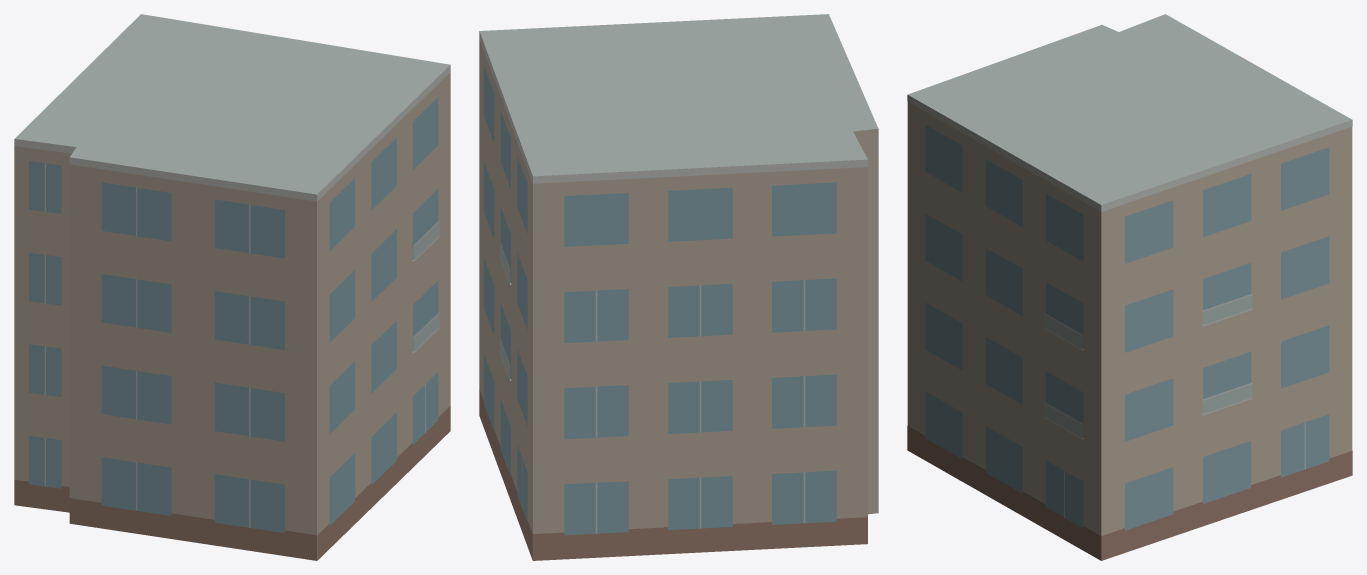
File: survey-upis-32995242.glb
The picture shows the model from 3 angles, left to right: view 1: azimuth 30°, elevation 25°; view 2: azimuth 150°, elevation 25°; view 3: azimuth 270°, elevation 25°; orthographic projection. The views are drawn at different scales.
Visible parts, largest first — view 1: survey-upis-32995242.tmp; view 2: survey-upis-32995242.tmp; view 3: survey-upis-32995242.tmp.
Part boxes in pixels (x1,y1,x2,y2): survey-upis-32995242.tmp: [14, 14, 450, 560]; survey-upis-32995242.tmp: [479, 14, 878, 560]; survey-upis-32995242.tmp: [907, 14, 1352, 560].
Bounding box in the file's own units: 14.52 × 12.6 × 14.29.
